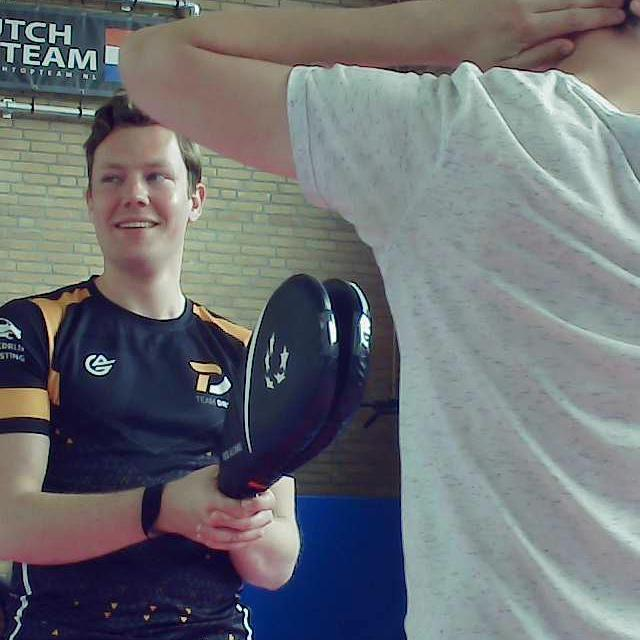paddle: (217, 274, 370, 501)
